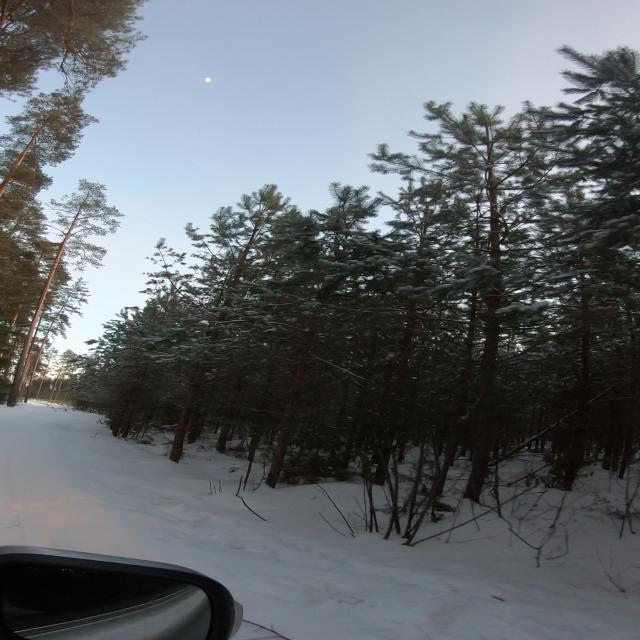trees: (7, 207, 81, 406), (464, 186, 503, 502), (267, 329, 314, 488), (169, 363, 205, 463), (0, 124, 45, 197), (186, 407, 202, 444)
